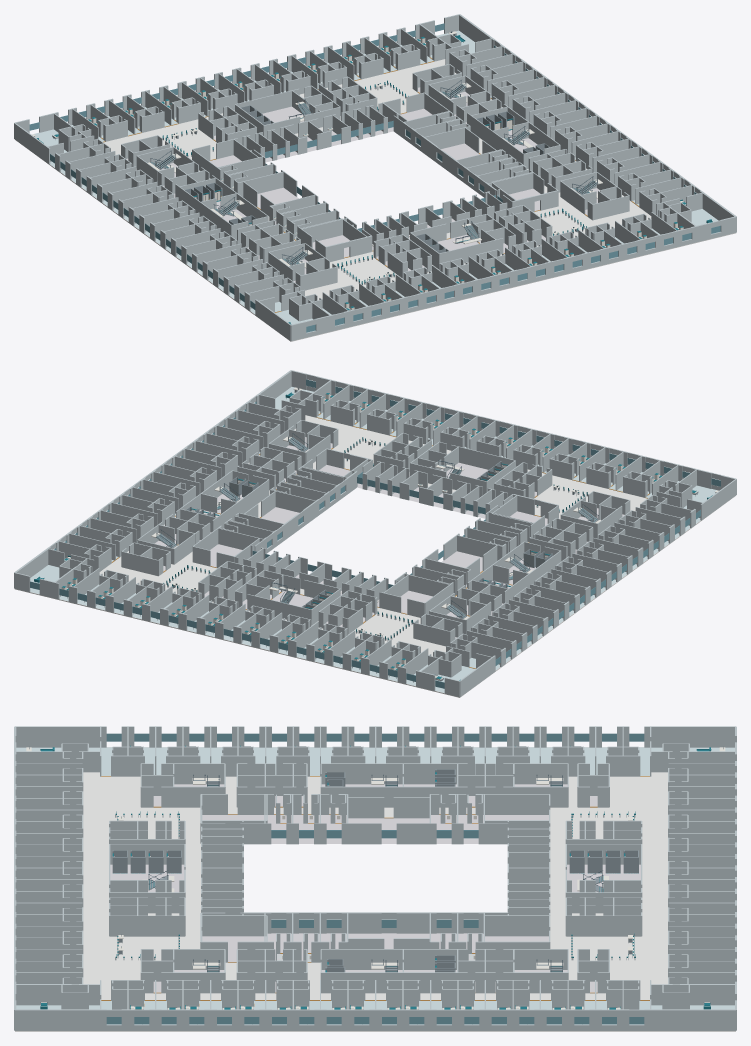
Rendered from nanjing-ward.glb.
3 views of the same model, one above another, from view 1: azimuth 30°, elevation 25°; view 2: azimuth 150°, elevation 25°; view 3: azimuth 270°, elevation 25° (orthographic). The views are drawn at different scales.
Parts seen in each view (by area): view 1: Floor slab, wall-1333, wall-1260, wall-991, wall-45, wall-25, wall-1028, wall-1091; view 2: Floor slab, wall-1260, wall-1333, wall-45, wall-25, wall-908, wall-913; view 3: Floor slab, wall-23 (×2), 内侧支持房间 (×3), wall-812, wall-836, wall-974, wall-912, wall-1194, wall-1119, wall-909, wall-1116, wall-1197 (+79 smaller).
Boxes of the visible parts, x1,y1,x2,y2 form: Floor slab: (15,33,735,341); wall-1333: (439,238,503,263); wall-1260: (235,89,299,113); wall-991: (238,171,283,196); wall-45: (14,123,50,164); wall-25: (255,299,290,340); wall-1028: (302,218,346,242); wall-1091: (488,172,533,194); Floor slab: (15,415,735,697); wall-1260: (247,594,311,625); wall-1333: (451,445,514,469); wall-45: (460,655,495,696); wall-25: (700,479,736,520); wall-908: (408,574,449,596); wall-913: (218,528,259,549); Floor slab: (15,747,735,1031); wall-23 (×2): (15,1009,735,1030); 内侧支持房间 (×3): (202,818,429,961); wall-812: (651,727,734,747); wall-836: (16,727,99,747); wall-974: (202,915,266,936); wall-912: (485,915,548,936); wall-1194: (321,949,402,969); wall-1119: (321,763,402,784); wall-909: (484,794,549,814); wall-1116: (321,786,403,807); wall-1197: (321,972,403,993).
Bounding box in the file's own units: 95.28 × 4.23 × 102.
